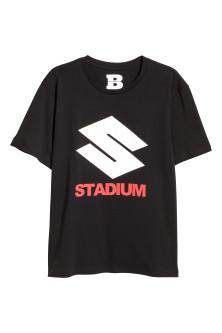teeshirt: (15, 53, 217, 269)
